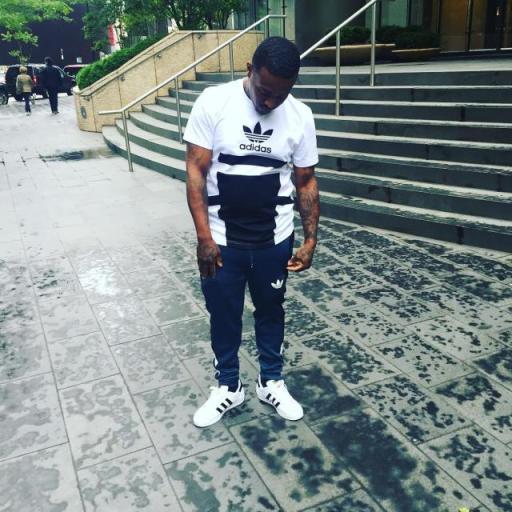Adidas: (238, 122, 274, 152)
